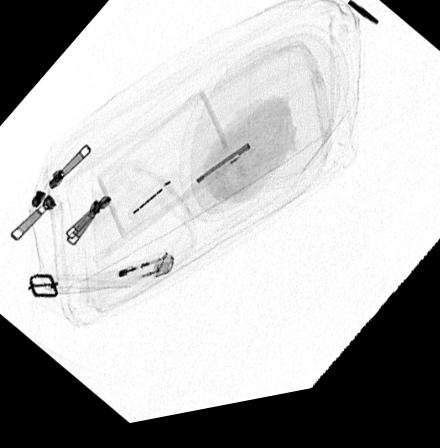Lighter: (79, 255, 176, 296)
